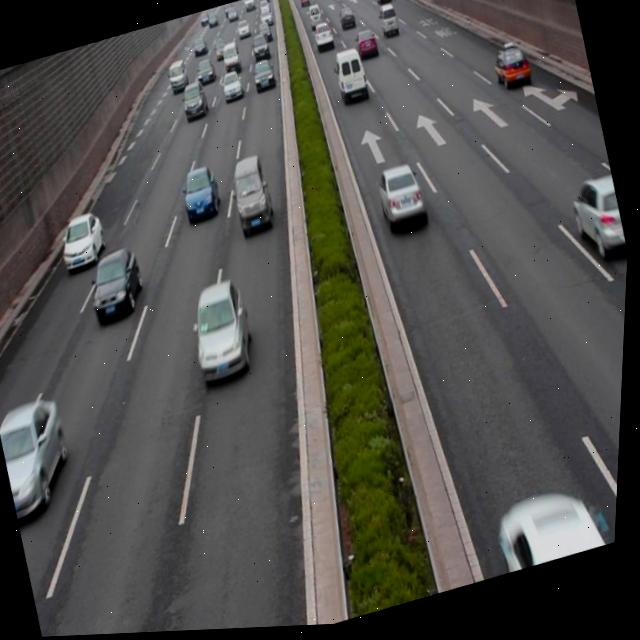car: (0, 391, 87, 526), (184, 278, 264, 389), (565, 174, 633, 269), (85, 245, 154, 330), (374, 165, 432, 241), (55, 210, 113, 273), (176, 164, 225, 225), (487, 42, 532, 98)
truck: (225, 155, 281, 240), (329, 47, 371, 111)
